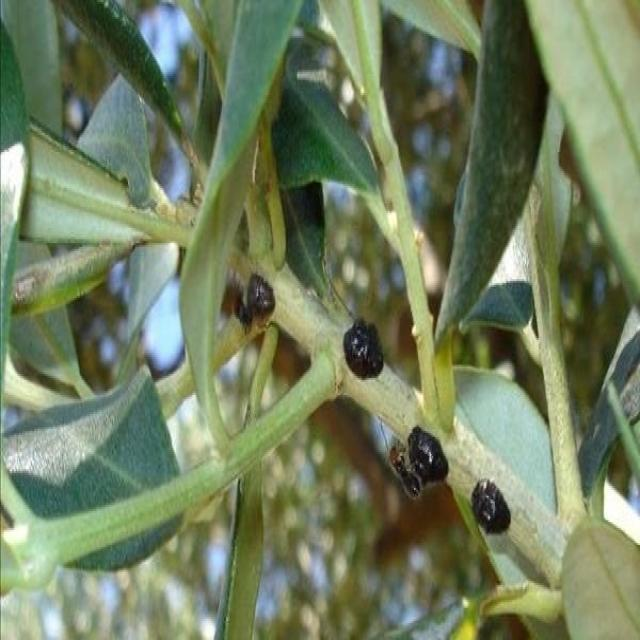BlackScale: (234, 274, 273, 336), (408, 427, 447, 486), (344, 319, 382, 378), (472, 478, 509, 534)
